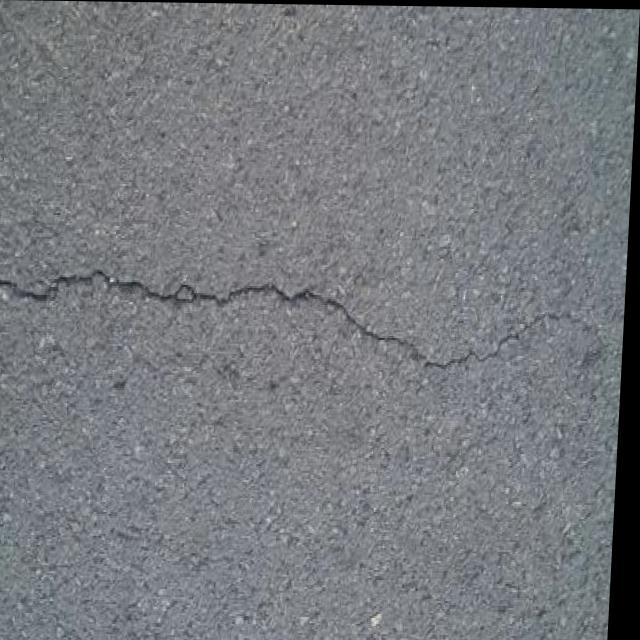Crack: (0, 237, 600, 414)
